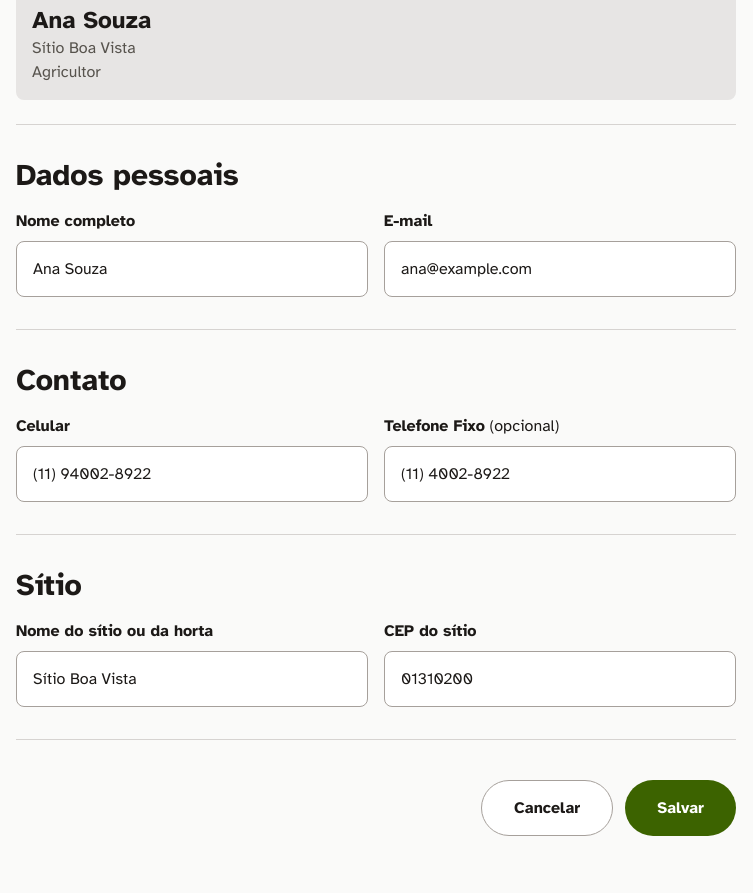
MyProfile › shows the API message when the profile cannot be saved
The image size is (753, 893).
(page scrolled)
Click the button "Salvar".
click(681, 808)  # box [625,780,736,836]
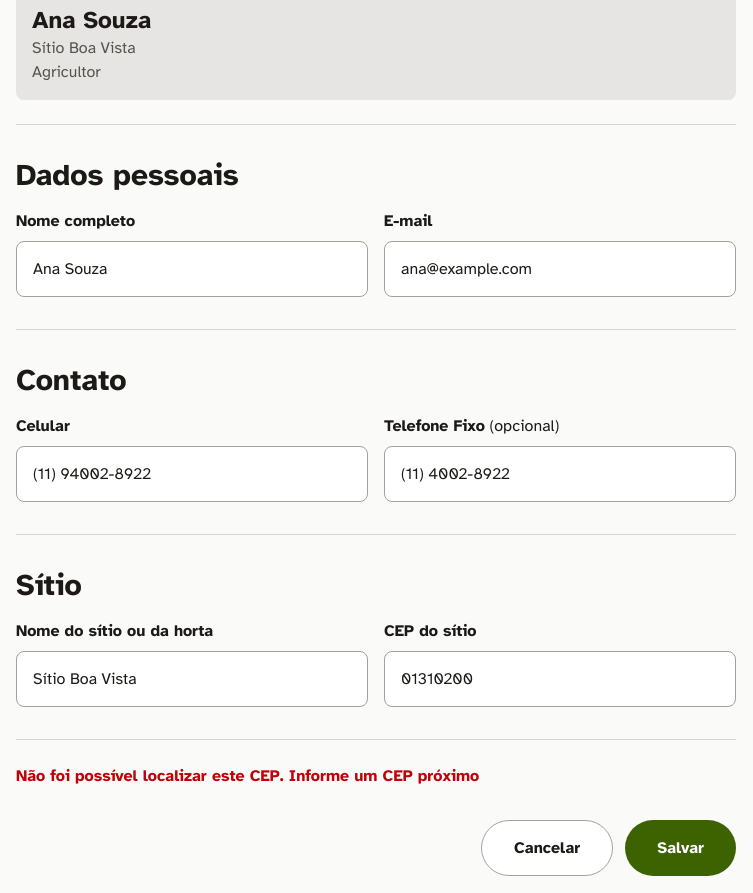
expect the message reads "Não foi possível localizar este CEP. Informe um CEP próximo": met, box [16,766,479,786]
